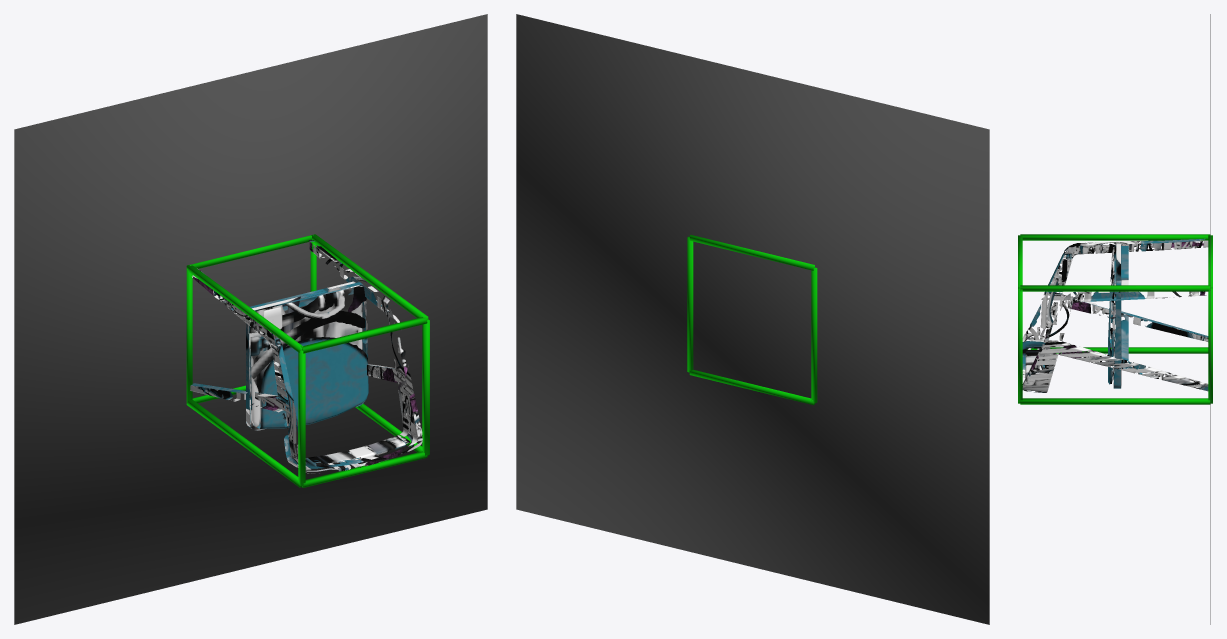
3 renders of one model, left to right at view 1: azimuth 30°, elevation 25°; view 2: azimuth 150°, elevation 25°; view 3: azimuth 270°, elevation 25°, orthographic. The views are drawn at different scales.
Size of the model in its own units: 2 by 2 by 0.8474.
